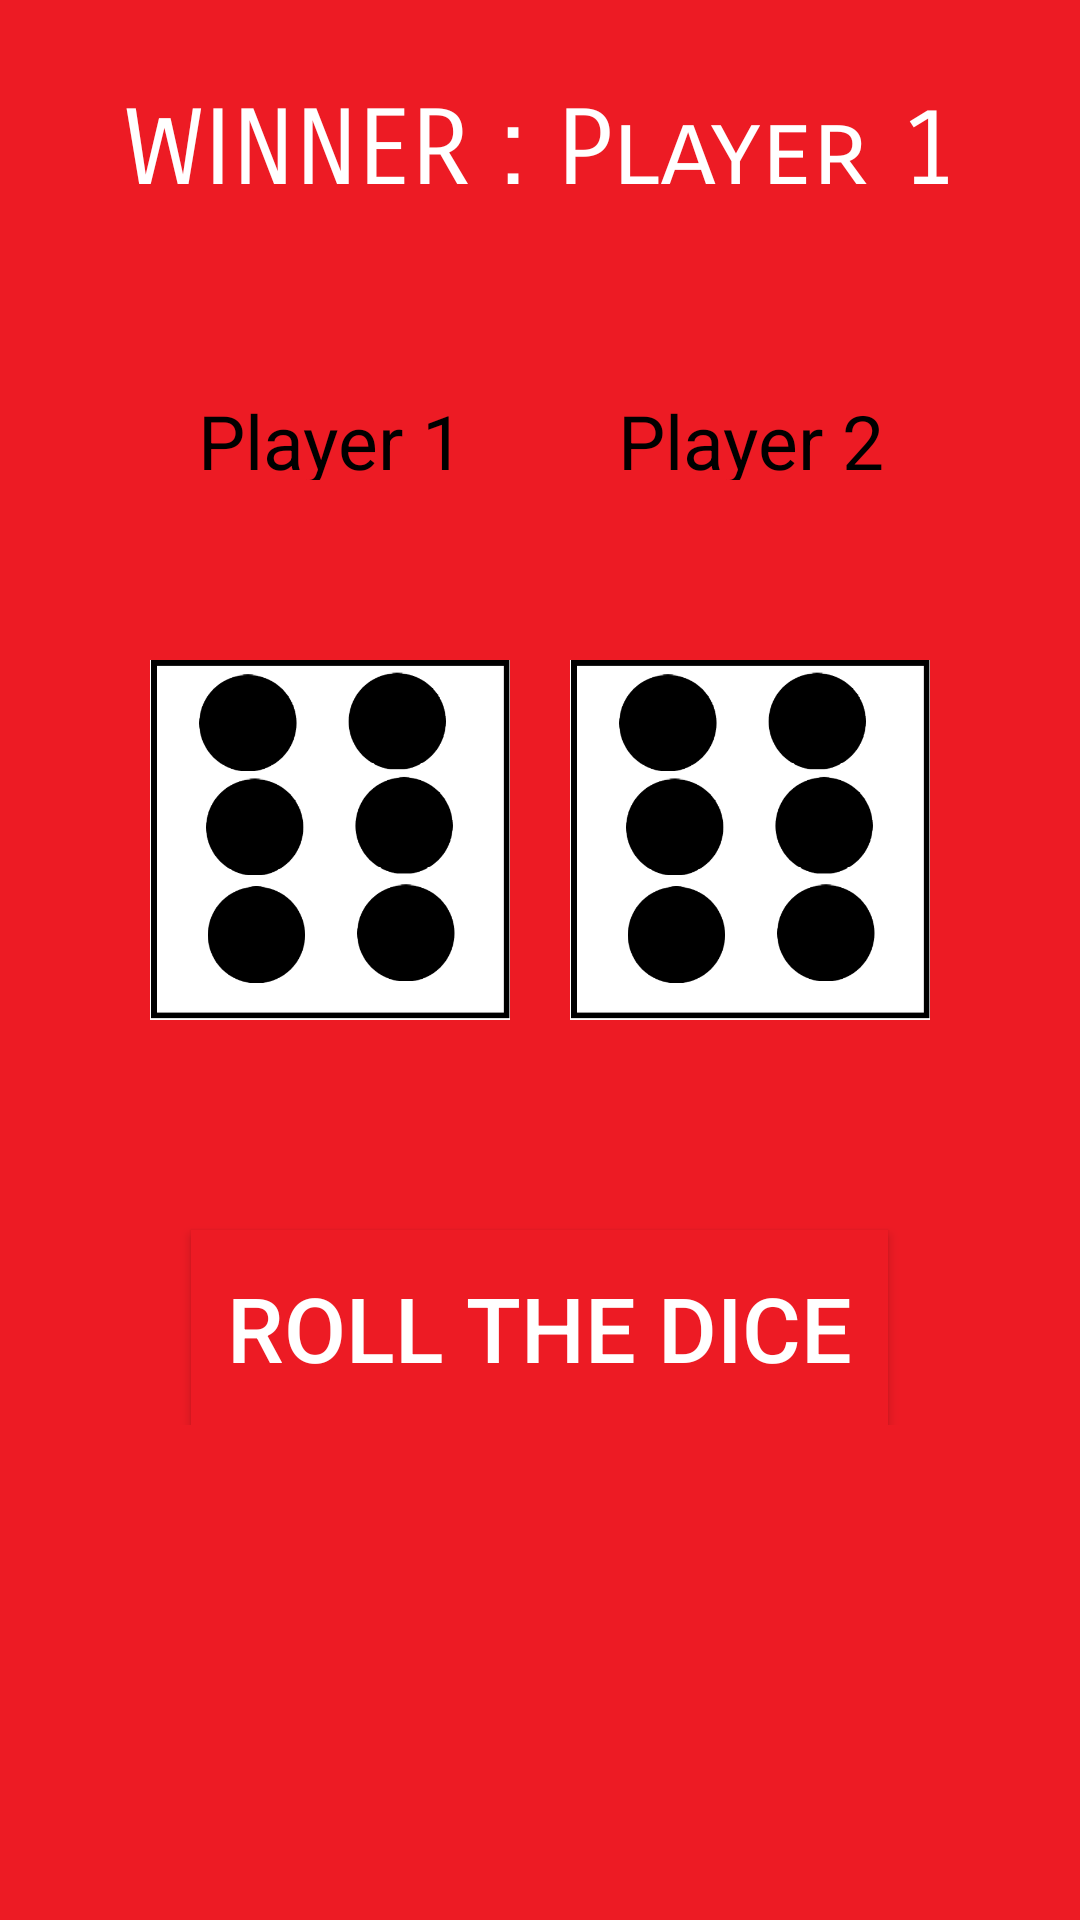

Screen size 1080 x 1920. Icon name, then its center in pixels as [x,y]:
dice: [330,840], [750,840]
